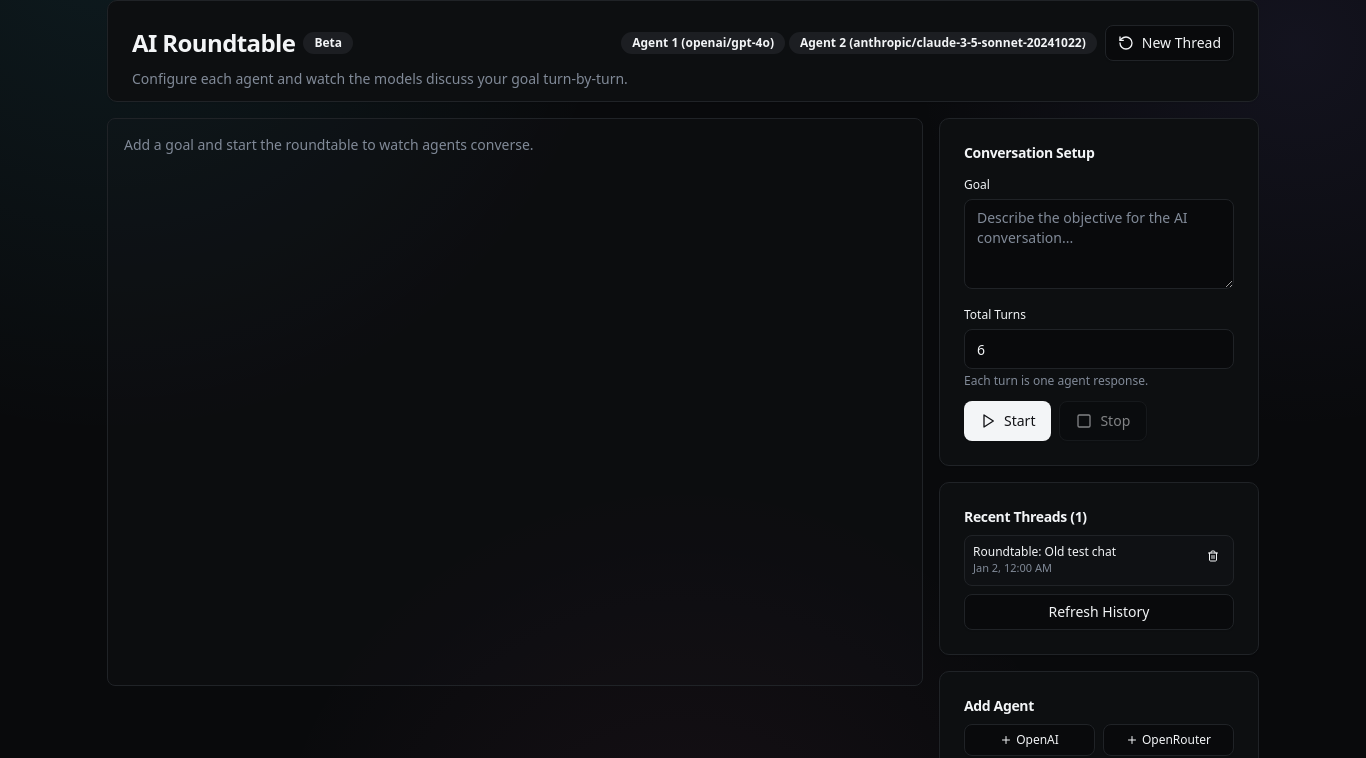
Test: AIRoundtablePage history behavior › retains partial output when the server aborts a generation
Expected: the text "Roundtable: Old test chat" is shown, [973,543,1116,560]
Type "Partial goal" into the text box with placeholder "Describe the objective for the AI conversation..." at (1099, 244), box [964,199,1234,289]
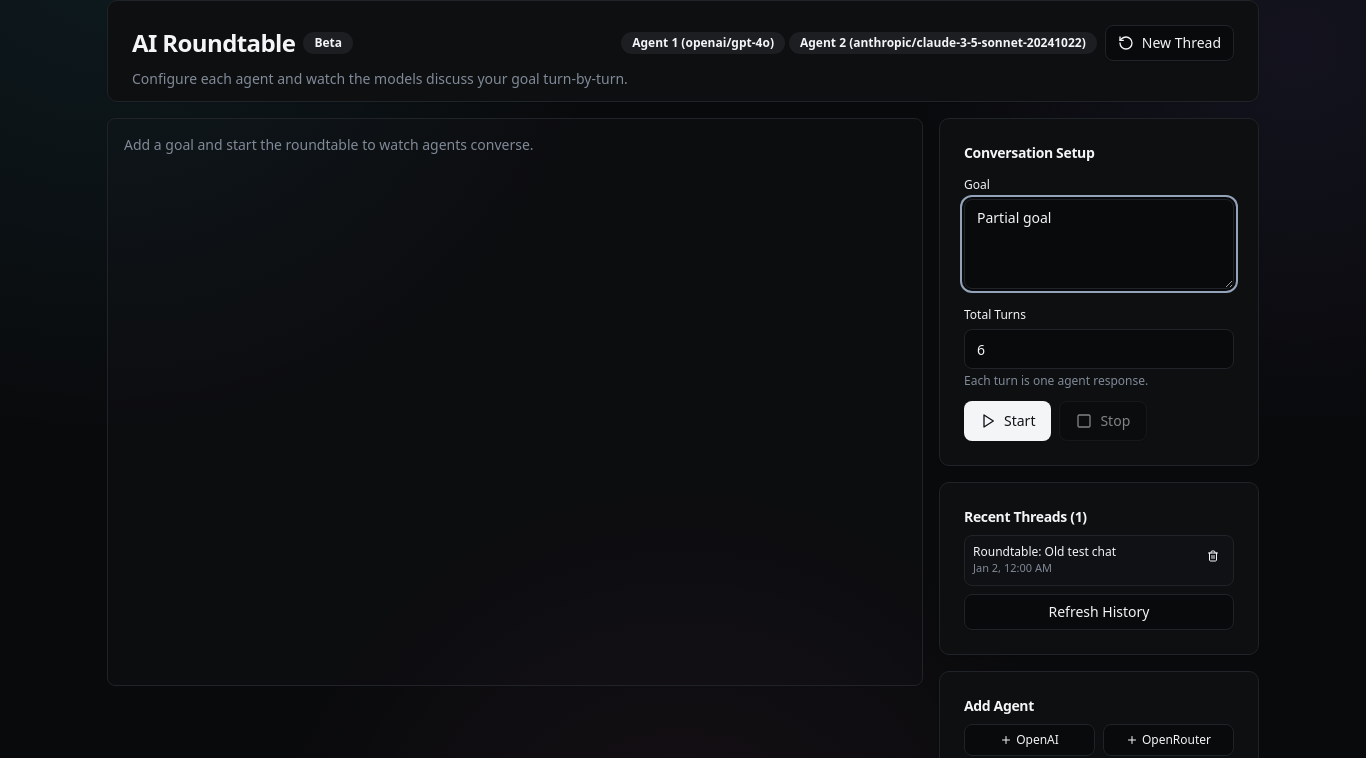
Click the button "Start" at (1008, 421), box [964,401,1051,441]
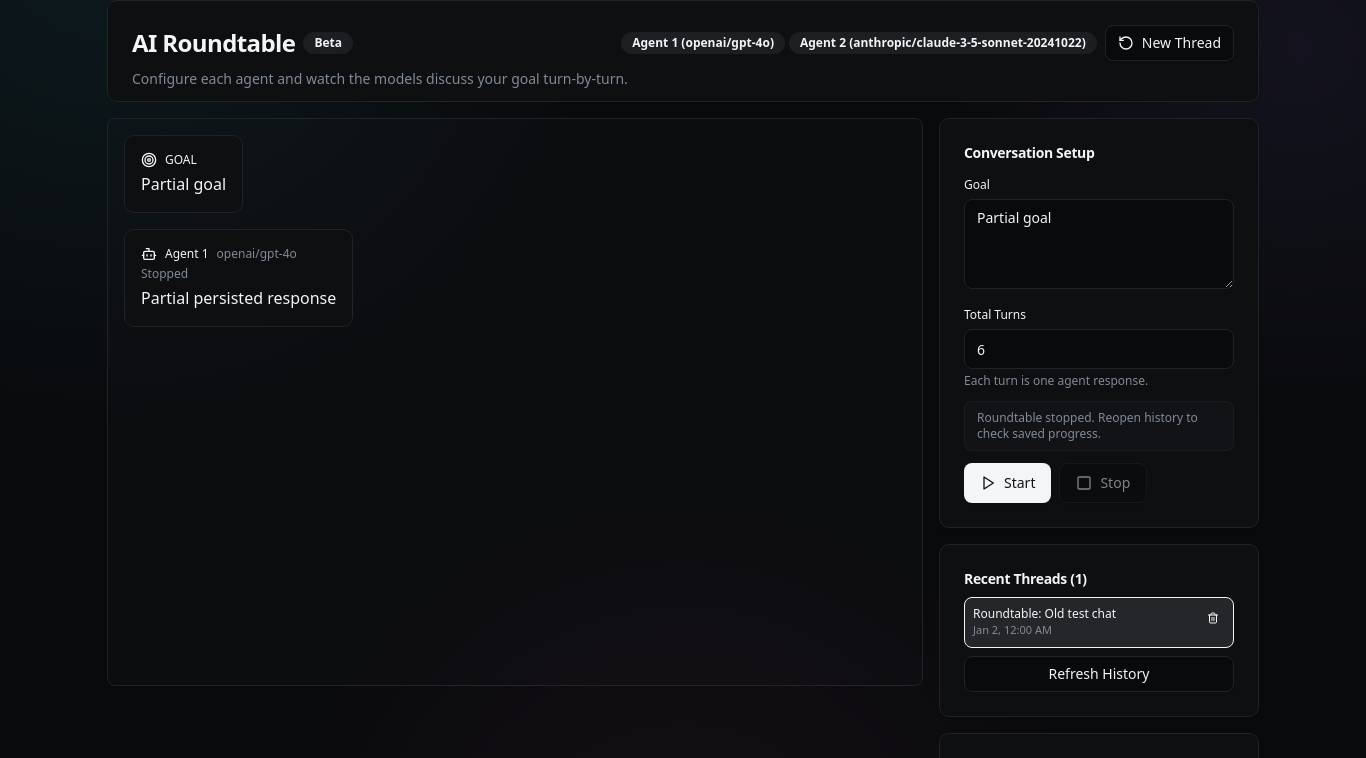
Now the text "Stopped" is shown, box [141,265,188,282]
Now the text "Partial persisted response" is shown, box [141,286,336,310]
